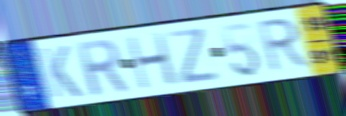5: (218, 20, 262, 79)
H: (124, 30, 180, 92)
K: (37, 43, 85, 100)
R: (72, 37, 131, 99), (257, 15, 313, 75)
Z: (166, 26, 223, 86)
